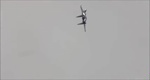maybay_muctieu: (77, 6, 89, 31)
